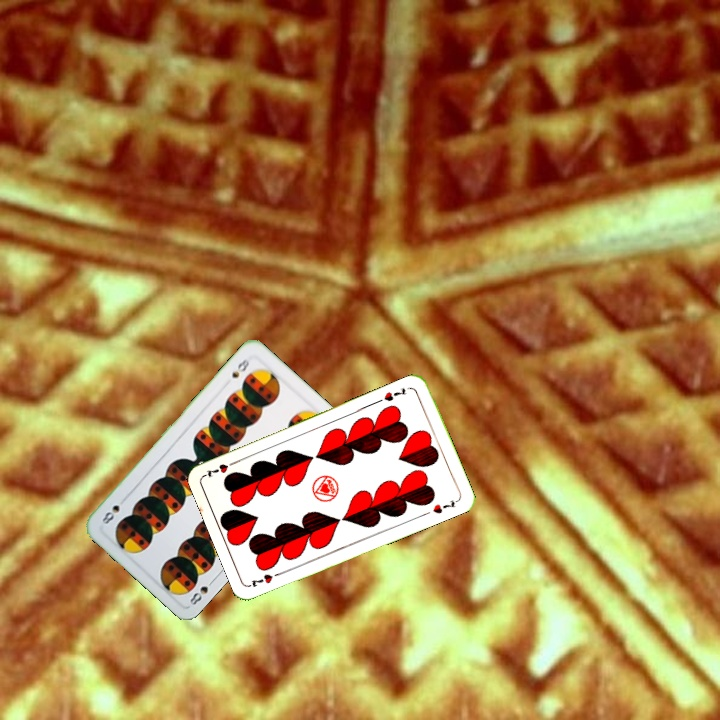H7: (246, 568, 285, 590), (380, 384, 409, 404)
S8: (185, 574, 218, 608), (228, 355, 252, 380)
